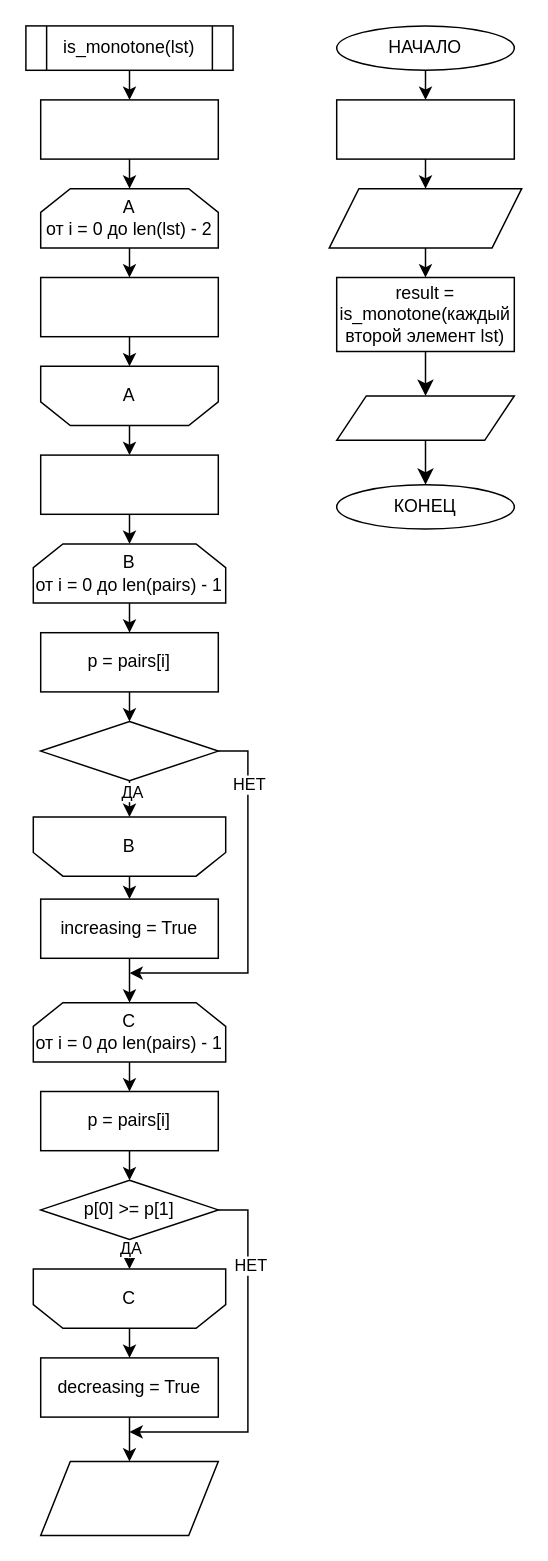
This 548x1561 diagram has some shape labels left out. The centre of each missing label's shape, as x and y in pixels:
increasing = False increasing = False: the point at 128,484
lst = пустой список: the point at 424,128
p[0] <= p[1]: the point at 128,750
pairs = []: the point at 128,128
ВВОД элементов списка lst: the point at 425,217
ВЫВОД increasing или decreasing: the point at 128,1498
ВЫВОД result: the point at 424,417
Добавить в pairs (lst[i], lst[i+1]): the point at 128,306
